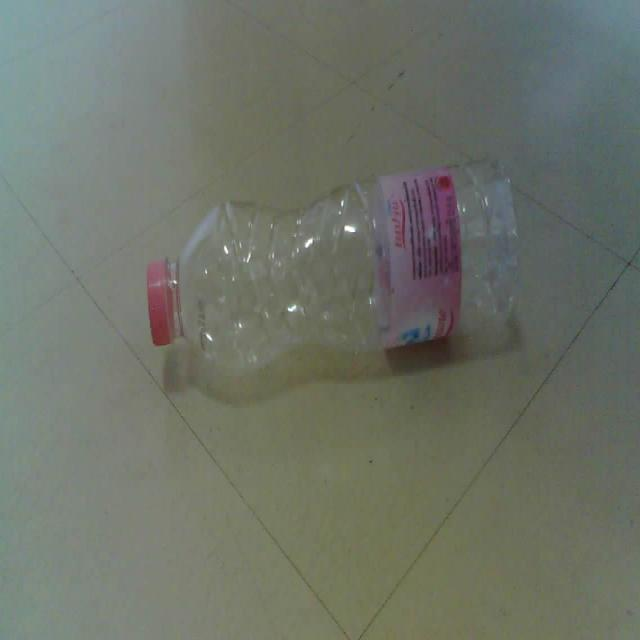empty: (148, 162, 517, 381)
